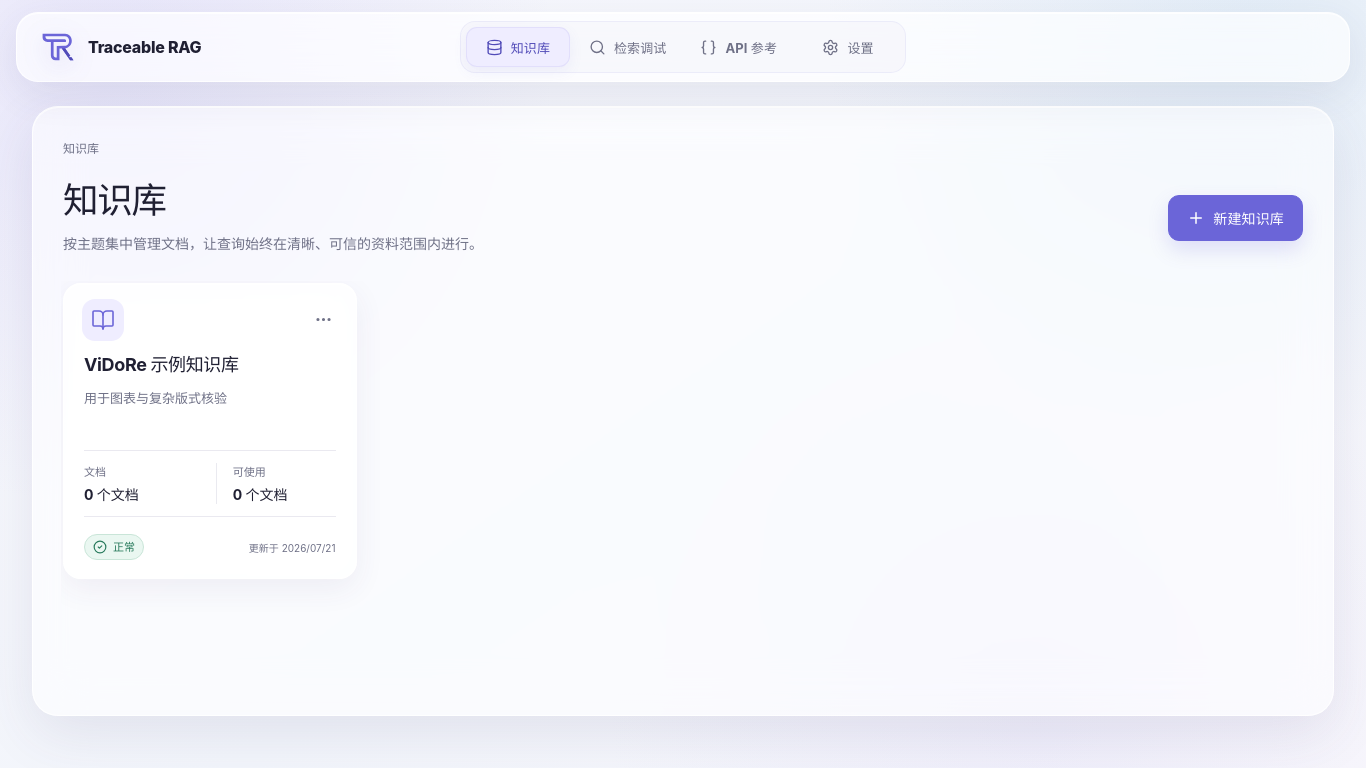
Test: knowledge base pages › renames and deletes an empty knowledge base with a simple confirmation
Click the button named "管理ViDoRe 示例知识库" at coordinates (324, 320), box [306,302,342,338]
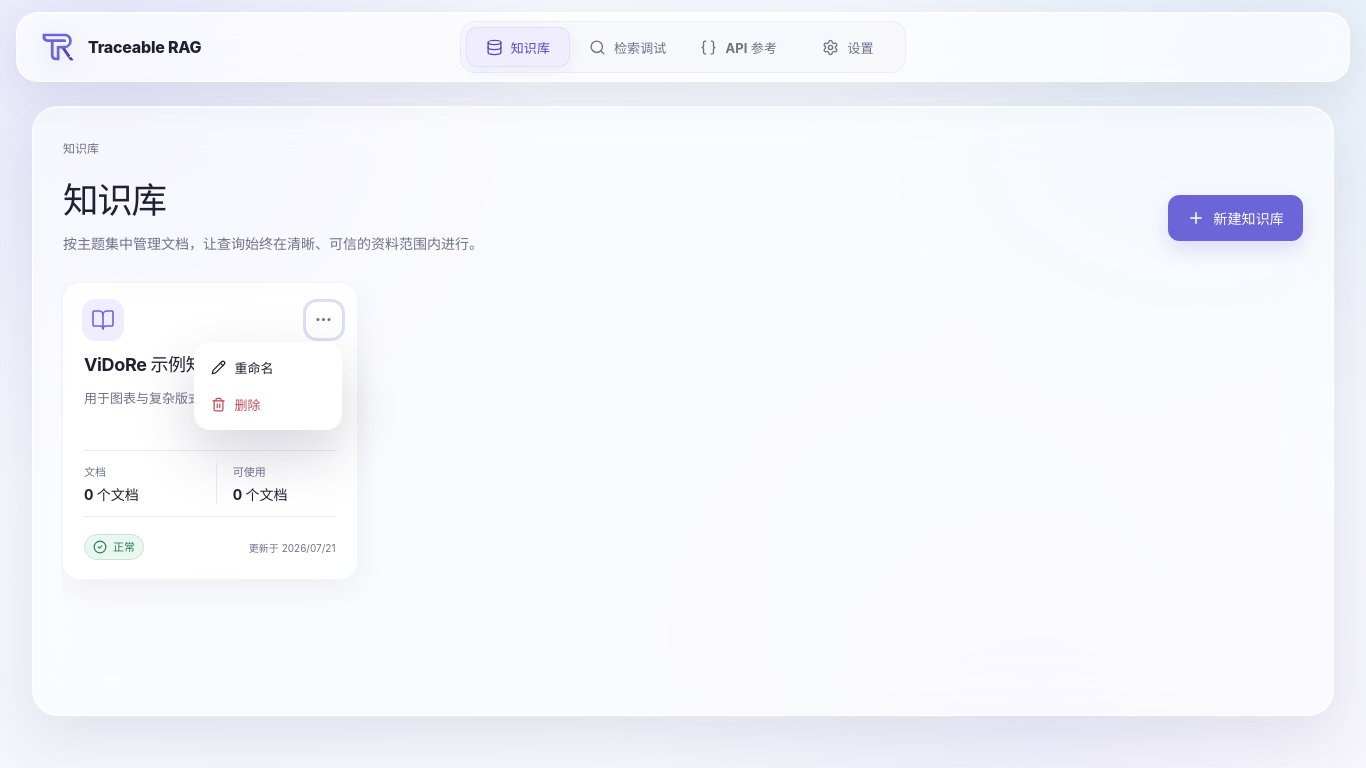
Click the menu item "重命名" at coordinates (268, 367), box [200,349,334,386]
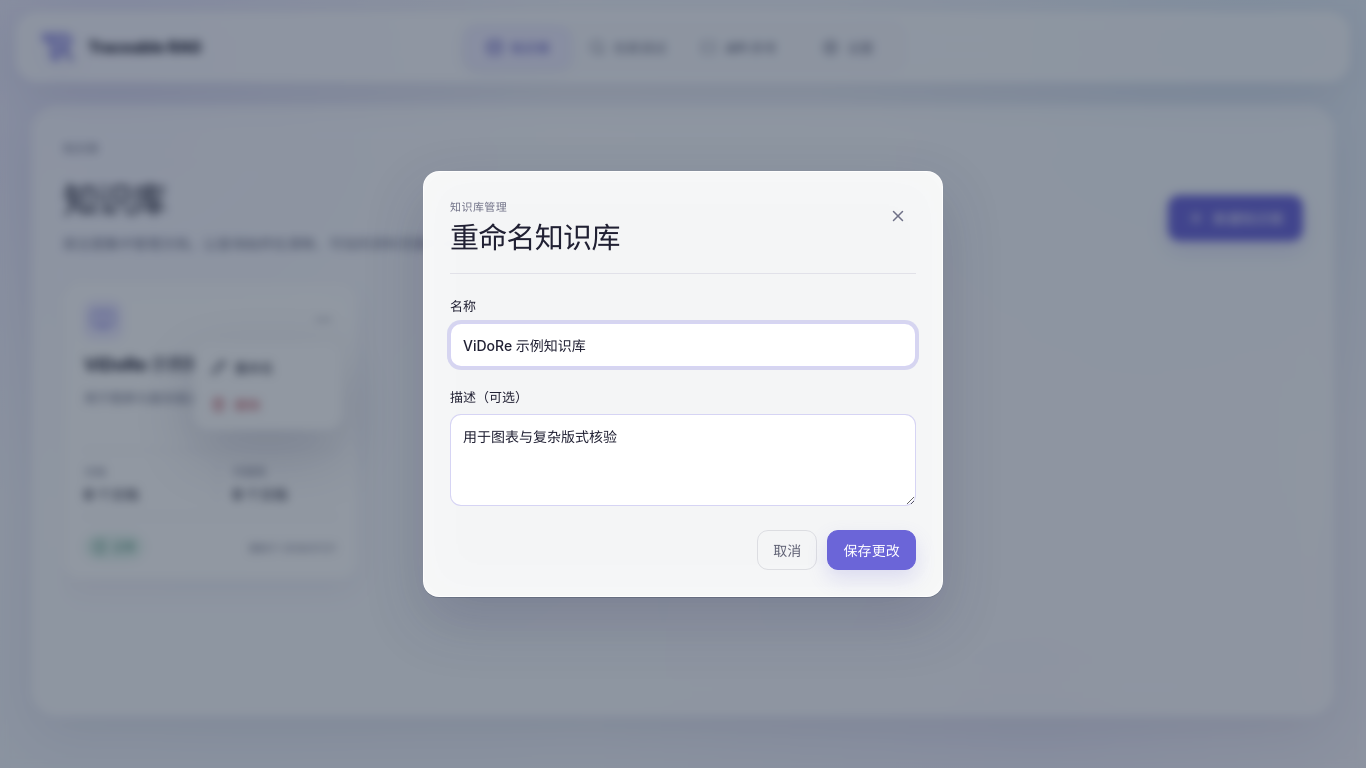
Replace the text in the field labelled "名称" with "财务图表知识库" at coordinates (683, 345), box [450,323,916,367]
Click the button "保存更改" at coordinates (872, 550), box [827,530,916,570]
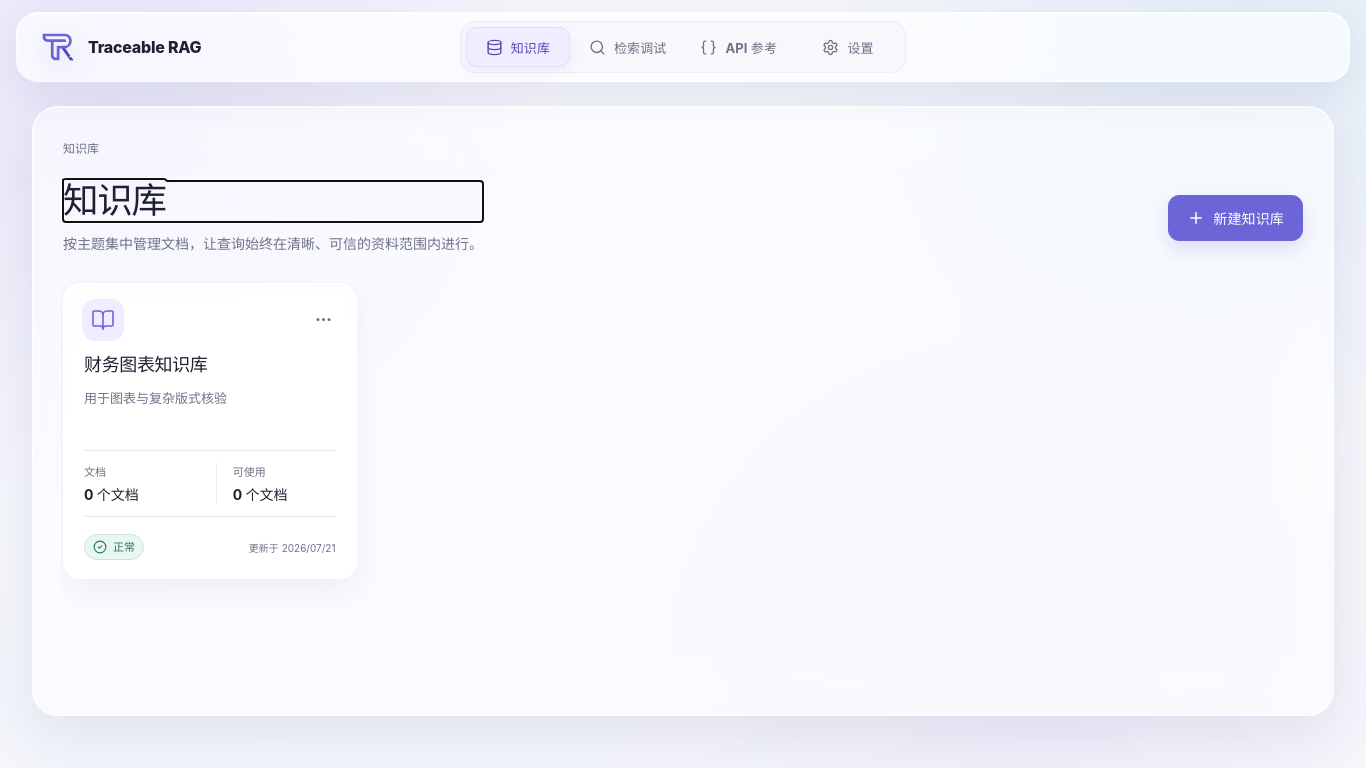
Expected: the heading "财务图表知识库" is shown, [84,354,208,375]
Click the button named "管理财务图表知识库" at coordinates (324, 320), box [306,302,342,338]
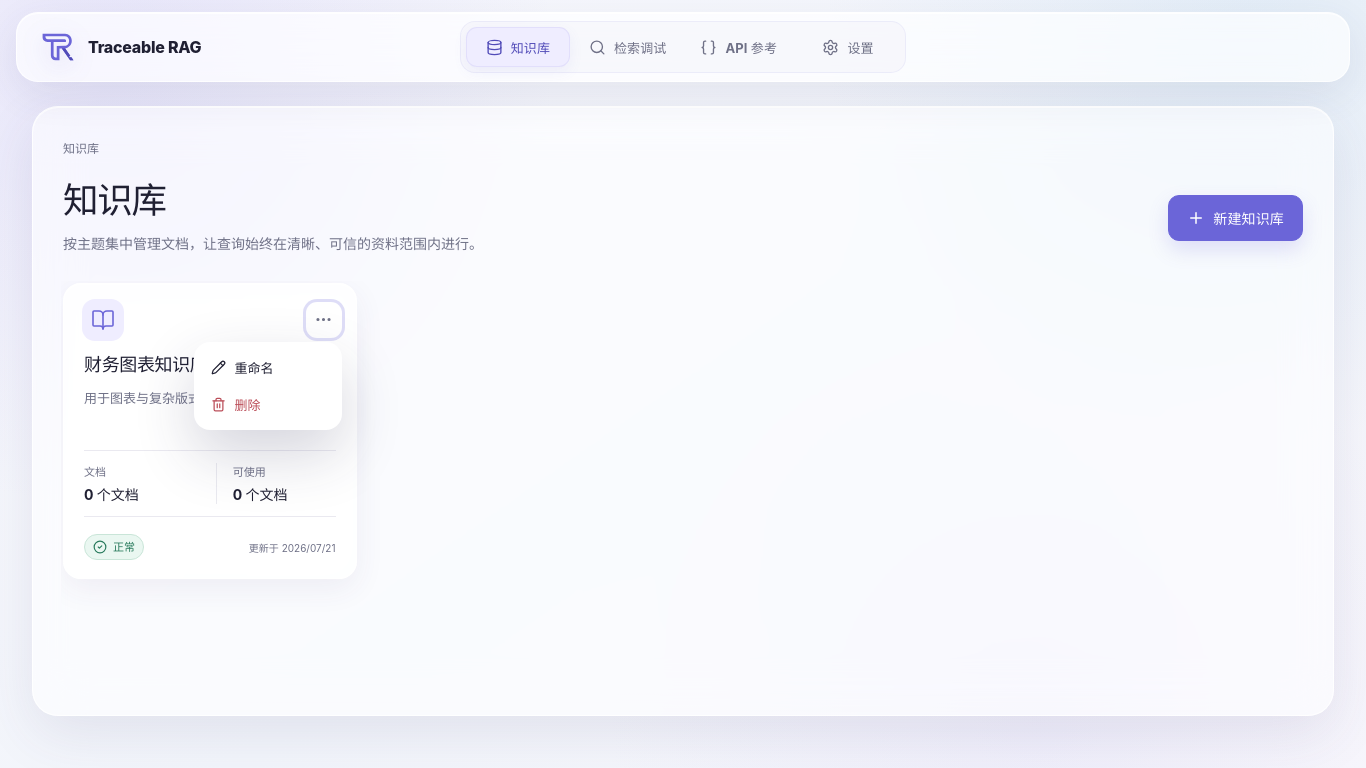
Click the menu item "删除" at coordinates (268, 404), box [200,386,334,423]
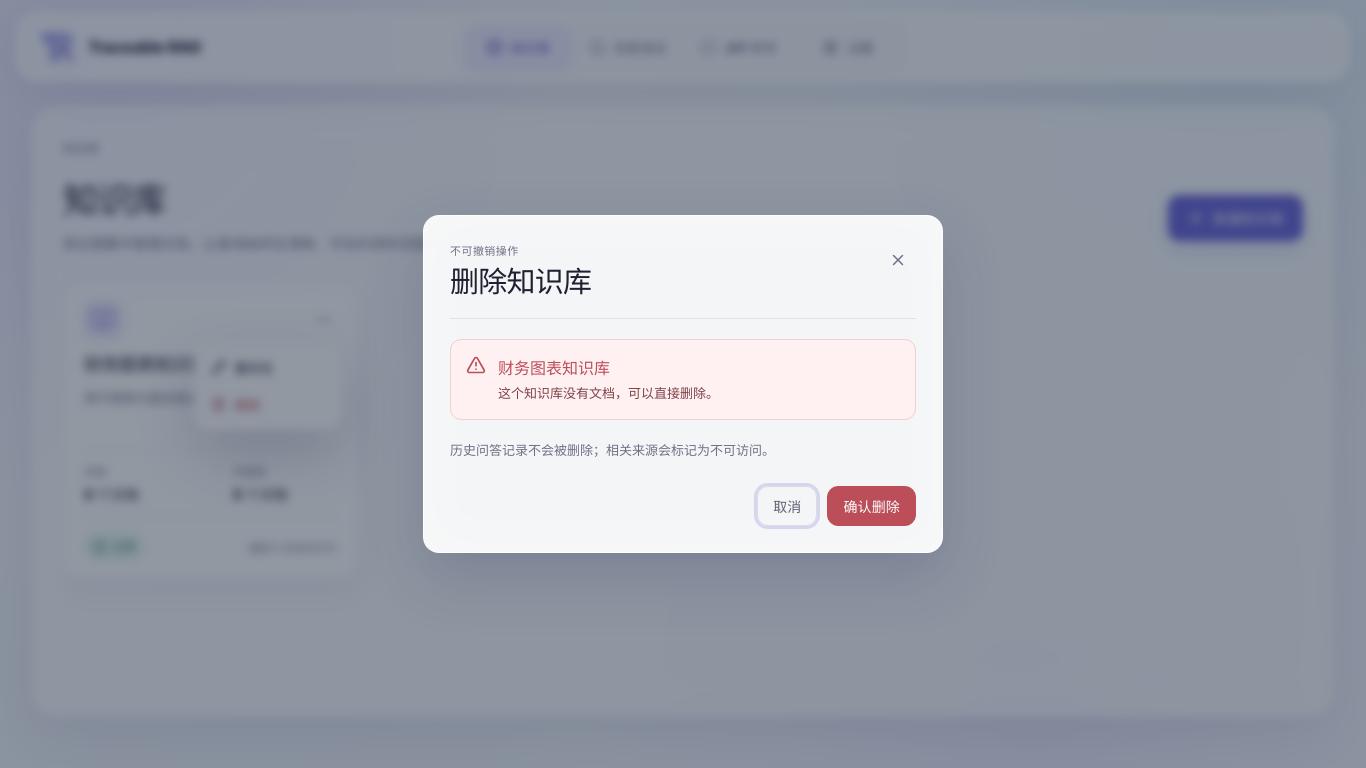
Expected: the text "这个知识库没有文档，可以直接删除。" is shown, [498,385,719,401]
Click the button "确认删除" at coordinates (872, 506), box [827,486,916,526]
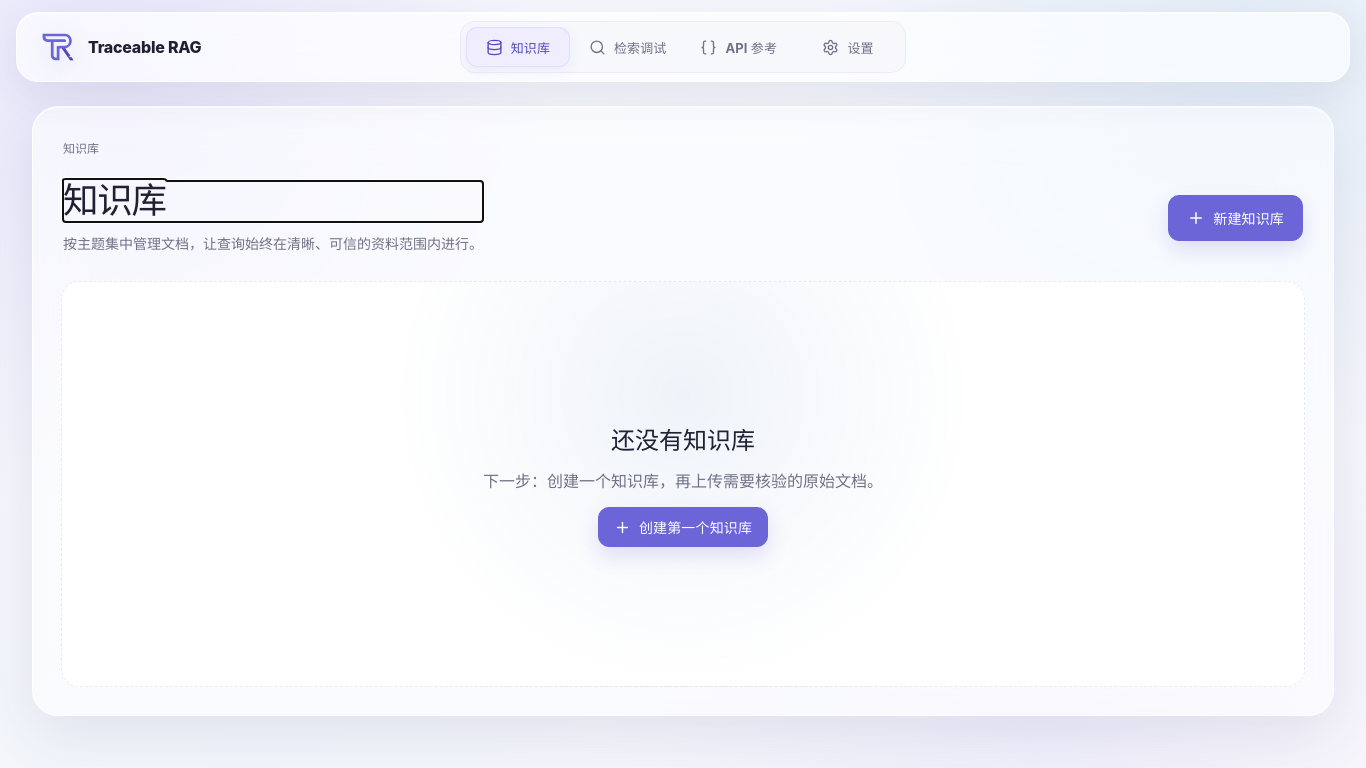
Expected: the heading "还没有知识库" is shown, [611,421,755,456]
